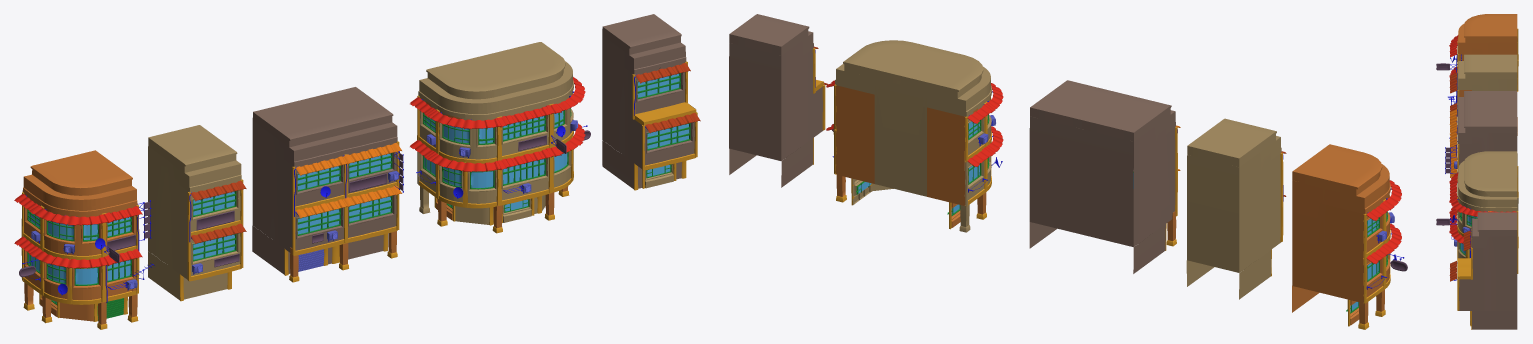
The model's file is Human_Building_Pack.FBX.
The picture shows the model from 3 angles, left to right: view 1: azimuth 30°, elevation 25°; view 2: azimuth 150°, elevation 25°; view 3: azimuth 270°, elevation 25°; orthographic projection. The views are drawn at different scales.
Visible parts, largest first — view 1: HT_UV003, HT_UV002, HT_UV, HT_UV001, HT_UV004; view 2: HT_UV003, HT_UV002, HT_UV, HT_UV001, HT_UV004; view 3: HT_UV004, HT_UV003, HT_UV002, HT_UV, HT_UV001.
Boxes of the visible parts, x1,y1,x2,y2 form: HT_UV003: (410, 42, 590, 233); HT_UV002: (252, 87, 403, 282); HT_UV: (14, 150, 154, 329); HT_UV001: (148, 125, 246, 301); HT_UV004: (602, 14, 700, 190); HT_UV003: (826, 40, 1003, 232); HT_UV002: (1029, 80, 1180, 273); HT_UV: (1292, 144, 1407, 329); HT_UV001: (1186, 118, 1286, 299); HT_UV004: (729, 14, 827, 187); HT_UV004: (1449, 212, 1517, 329); HT_UV003: (1436, 151, 1518, 273); HT_UV002: (1445, 91, 1517, 177); HT_UV: (1436, 14, 1518, 135); HT_UV001: (1449, 54, 1517, 165).
Size of the model in its own units: 7734 by 1583 by 1181.
